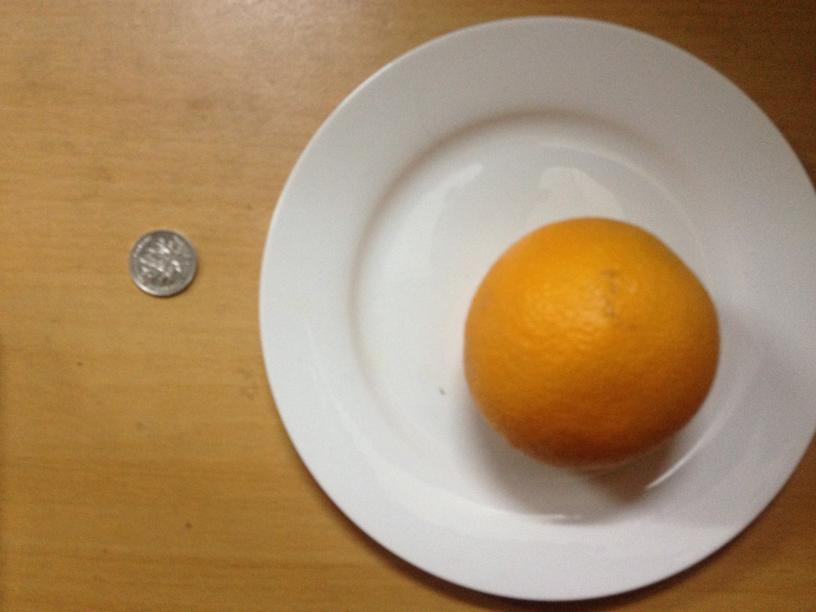coin: (129, 231, 196, 297)
orange: (464, 217, 721, 467)
